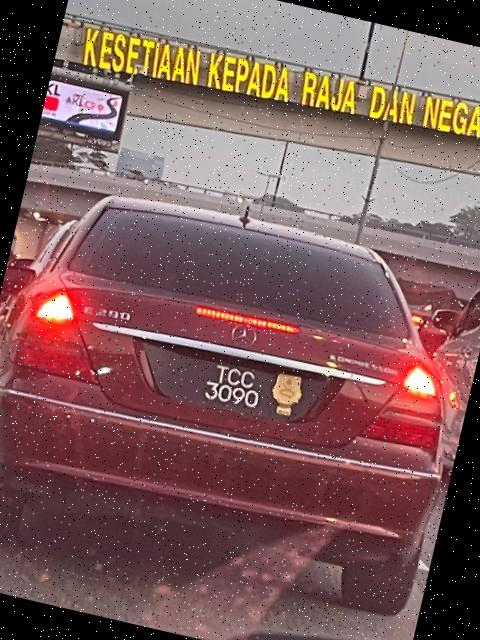License_Plate: (176, 354, 283, 420)
car: (1, 163, 480, 635)
